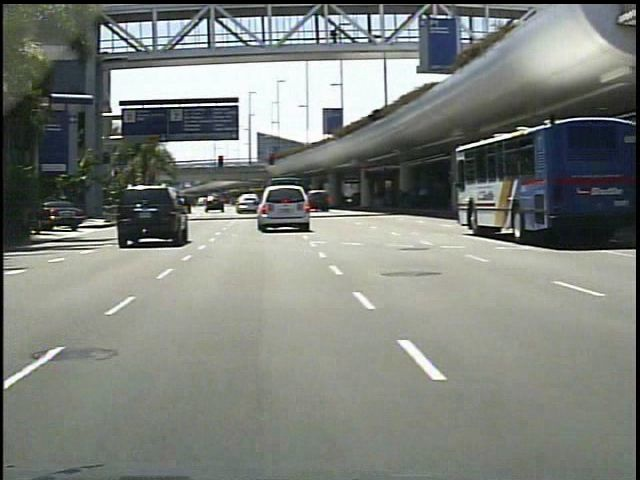person: (316, 26, 335, 51)
